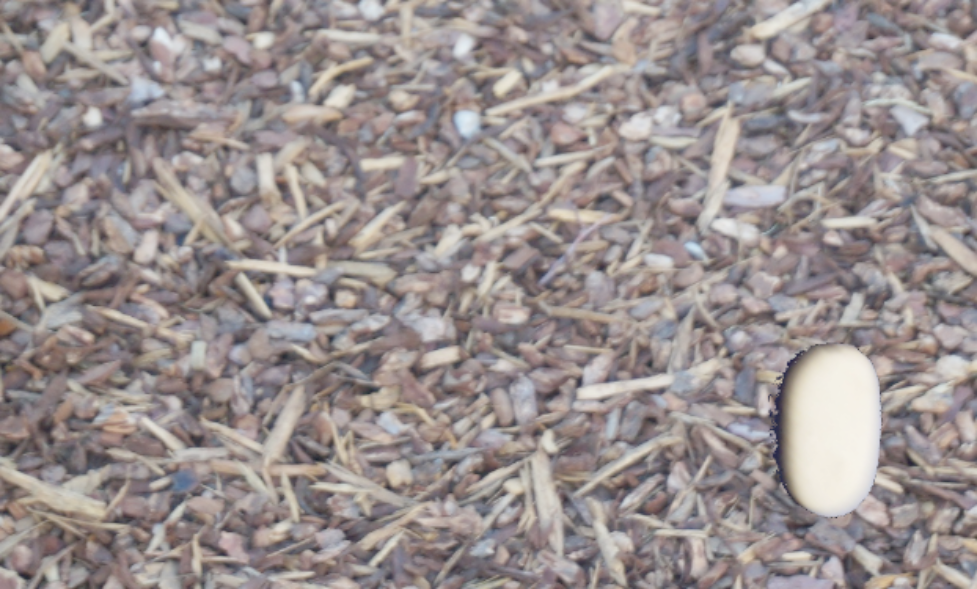test: (718, 318, 937, 537)
